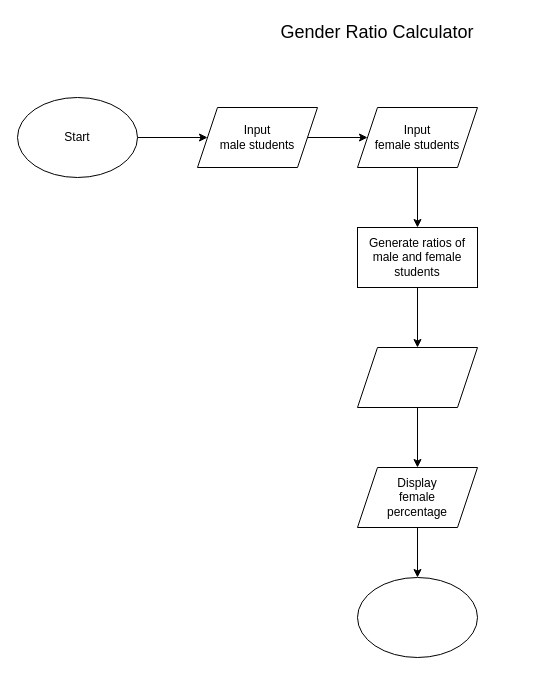
The diagram is 555 pixels wide and 675 high, and some of its shapes have lost their labels. The shapes that lost their labels are listed below. From the top down, each one's centre as x and y in pixels, then its label:
point (417, 377): Display male percentage
point (417, 617): End
